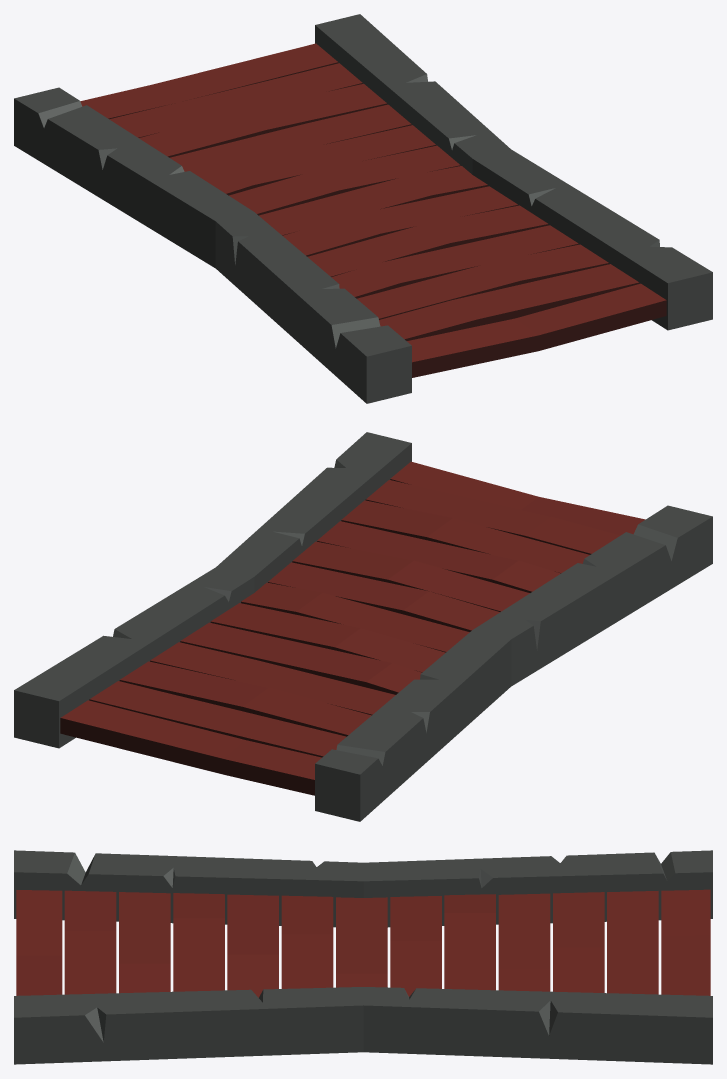
The model's file is Bridge_1_Red.fbx.
The picture shows the model from 3 angles, top to bottom: view 1: azimuth 30°, elevation 25°; view 2: azimuth 150°, elevation 25°; view 3: azimuth 270°, elevation 25°; orthographic projection.
Parts seen in each view (by area): view 1: Bridge_1_Red_Part_3, Bridge_1_Red_Part_1, Bridge_1_Red_Part_4, Bridge_1_Red_Part_2; view 2: Bridge_1_Red_Part_3, Bridge_1_Red_Part_1, Bridge_1_Red_Part_4, Bridge_1_Red_Part_2; view 3: Bridge_1_Red_Part_1, Bridge_1_Red_Part_3, Bridge_1_Red_Part_2.
Part boxes in pixels (x1=…): Bridge_1_Red_Part_3: x1=80, y1=43, x2=666, y2=362; Bridge_1_Red_Part_1: x1=14, y1=14, x2=712, y2=403; Bridge_1_Red_Part_4: x1=108, y1=62, x2=666, y2=377; Bridge_1_Red_Part_2: x1=38, y1=74, x2=659, y2=348; Bridge_1_Red_Part_3: x1=61, y1=461, x2=645, y2=779; Bridge_1_Red_Part_1: x1=14, y1=432, x2=712, y2=821; Bridge_1_Red_Part_4: x1=60, y1=479, x2=591, y2=795; Bridge_1_Red_Part_2: x1=113, y1=459, x2=677, y2=765; Bridge_1_Red_Part_1: x1=14, y1=850, x2=712, y2=1064; Bridge_1_Red_Part_3: x1=16, y1=889, x2=710, y2=997; Bridge_1_Red_Part_2: x1=67, y1=852, x2=675, y2=1042.
Bounding box in the file's own units: 1150 × 150 × 2030.
